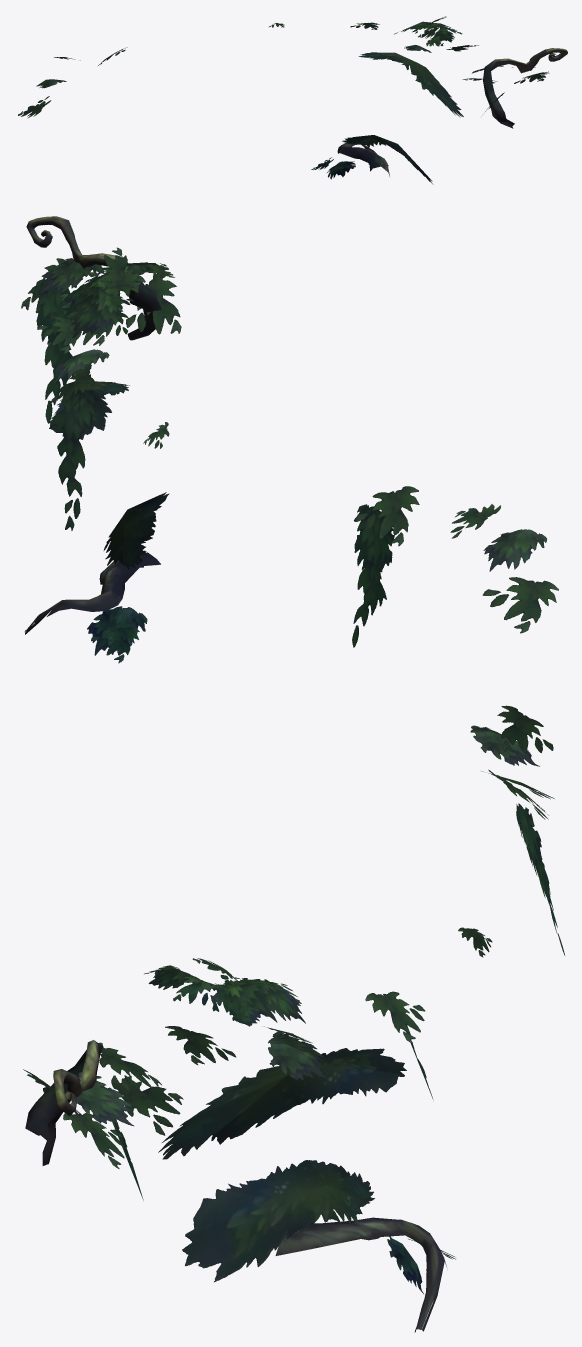
Rendered from MapObject_111.FBX.
3 renders of one model, top to bottom at view 1: azimuth 30°, elevation 25°; view 2: azimuth 150°, elevation 25°; view 3: azimuth 270°, elevation 25°, orthographic. The views are drawn at different scales.
Parts seen in each view (by area): view 1: polySurfaceMapGeoMesh617; view 2: polySurfaceMapGeoMesh617; view 3: polySurfaceMapGeoMesh617.
Part boxes in pixels (bbox=[...]): polySurfaceMapGeoMesh617: bbox=[18, 16, 567, 184]; polySurfaceMapGeoMesh617: bbox=[21, 216, 558, 663]; polySurfaceMapGeoMesh617: bbox=[23, 705, 564, 1332].
Size of the model in its own units: 1457 by 642 by 824.
